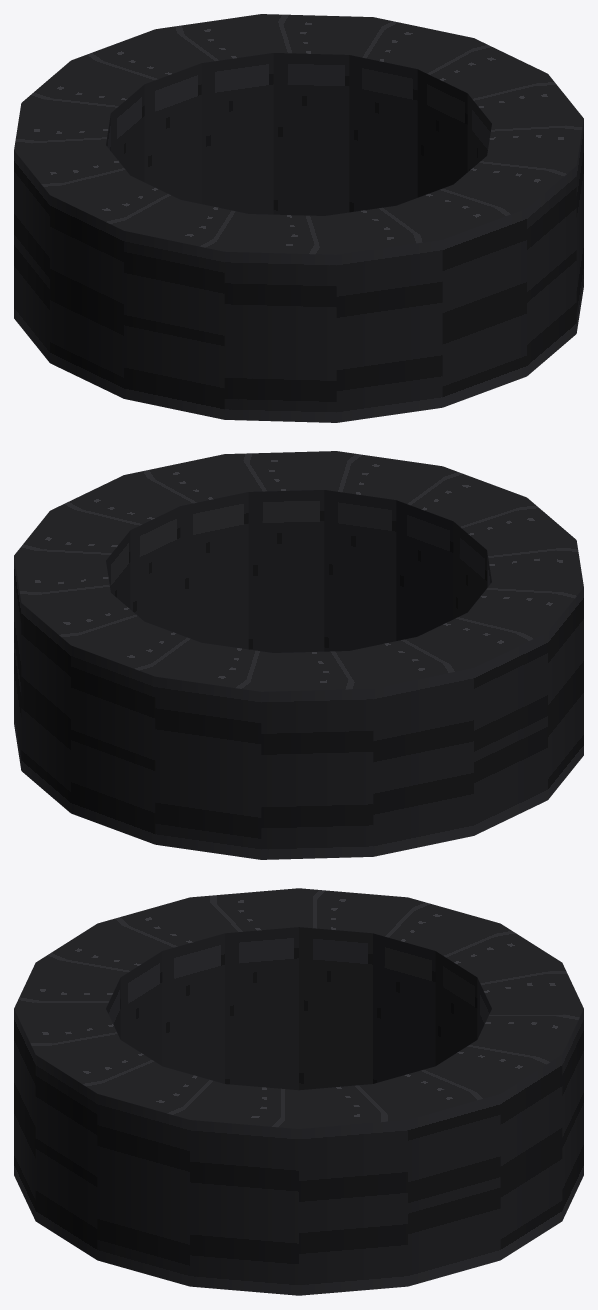
Rendered from TRN_Tire.glb.
3 renders of one model, top to bottom at view 1: azimuth 30°, elevation 25°; view 2: azimuth 150°, elevation 25°; view 3: azimuth 270°, elevation 25°, orthographic.
Parts seen in each view (by area): view 1: TRN_Tire_Mesh; view 2: TRN_Tire_Mesh; view 3: TRN_Tire_Mesh.
Boxes of the visible parts, x1,y1,x2,y2 form: TRN_Tire_Mesh: (14, 14, 583, 422); TRN_Tire_Mesh: (14, 451, 583, 859); TRN_Tire_Mesh: (14, 888, 583, 1295).
Size of what is drawn, in the model's own units: 0.62 by 0.2 by 0.62.
1 material, 1 textured.
